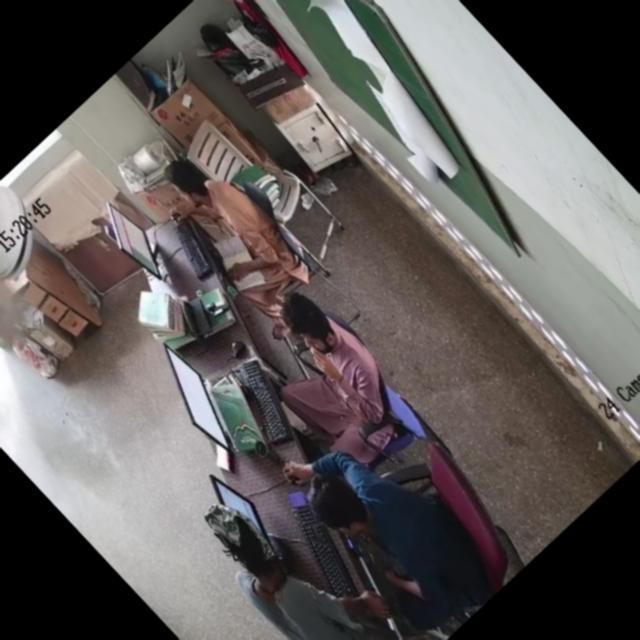person: (279, 422, 481, 628), (236, 277, 414, 460), (183, 490, 399, 640), (150, 144, 305, 304)
